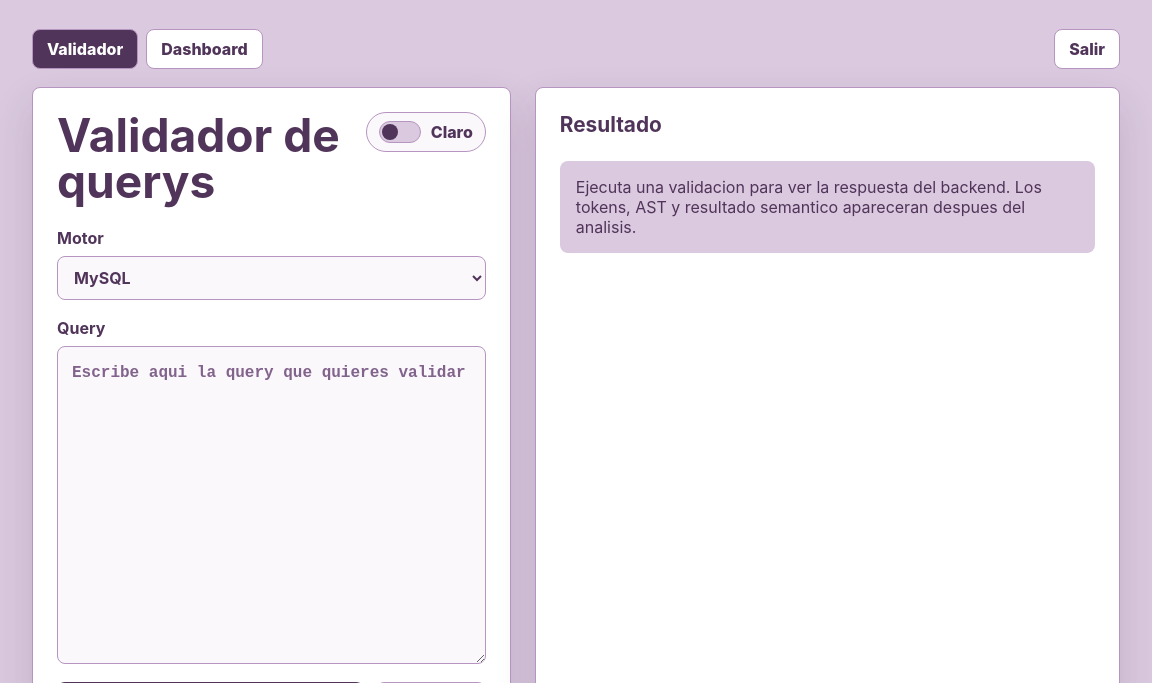
App › renderiza errores HTTP desde el body
Clear the text box labelled "Query" at x=271, y=505, box [57,346,486,664]
(page scrolled)
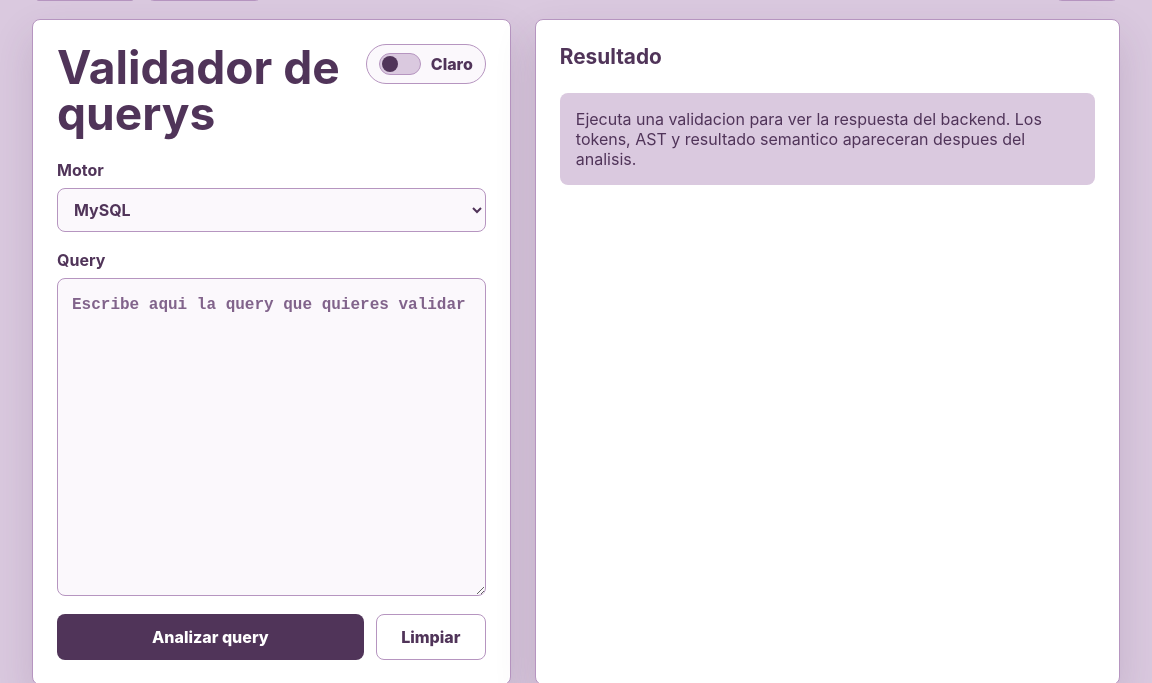
Submit the form, box [57,160,486,660]
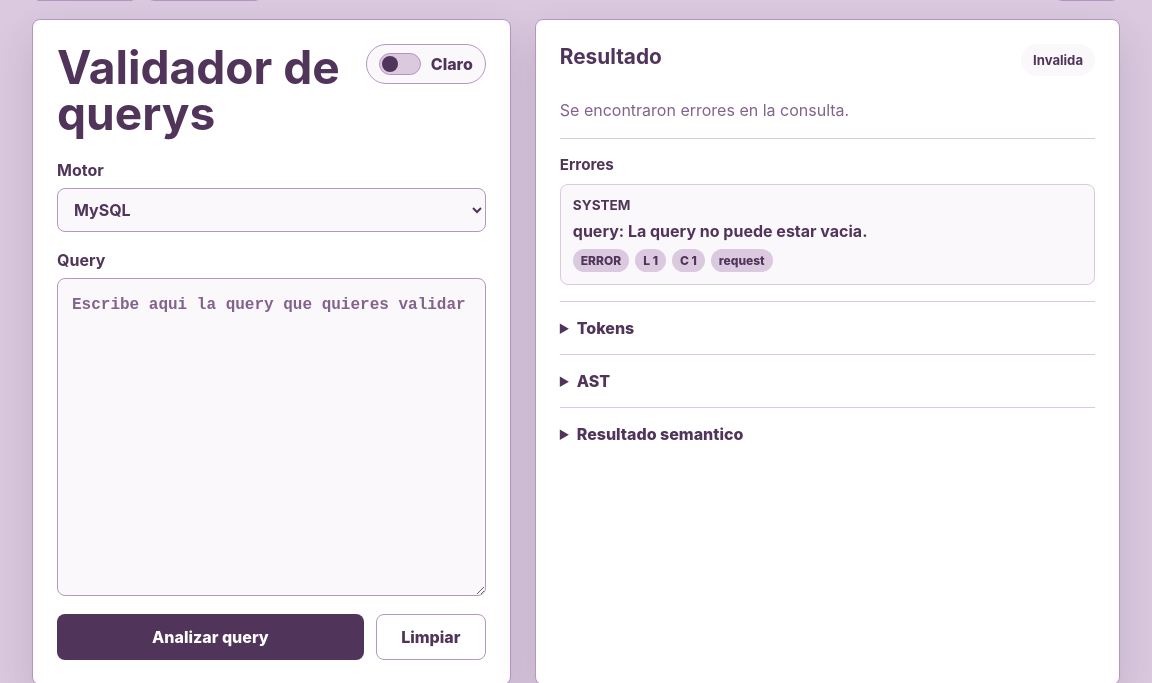
expect the text "SYSTEM" is shown: met, box [573,197,630,213]
expect the text "query: La query no puede estar vacia." is shown: met, box [573,221,868,241]
